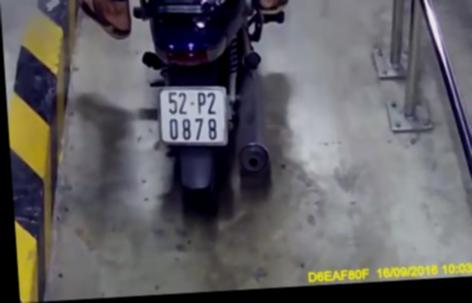License_Plate: (148, 78, 241, 158)
